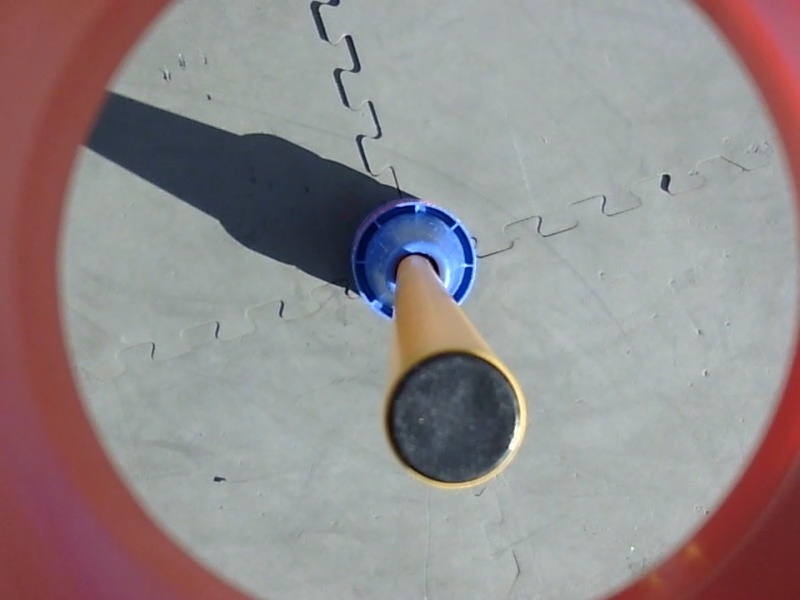tip: (377, 345, 534, 495)
